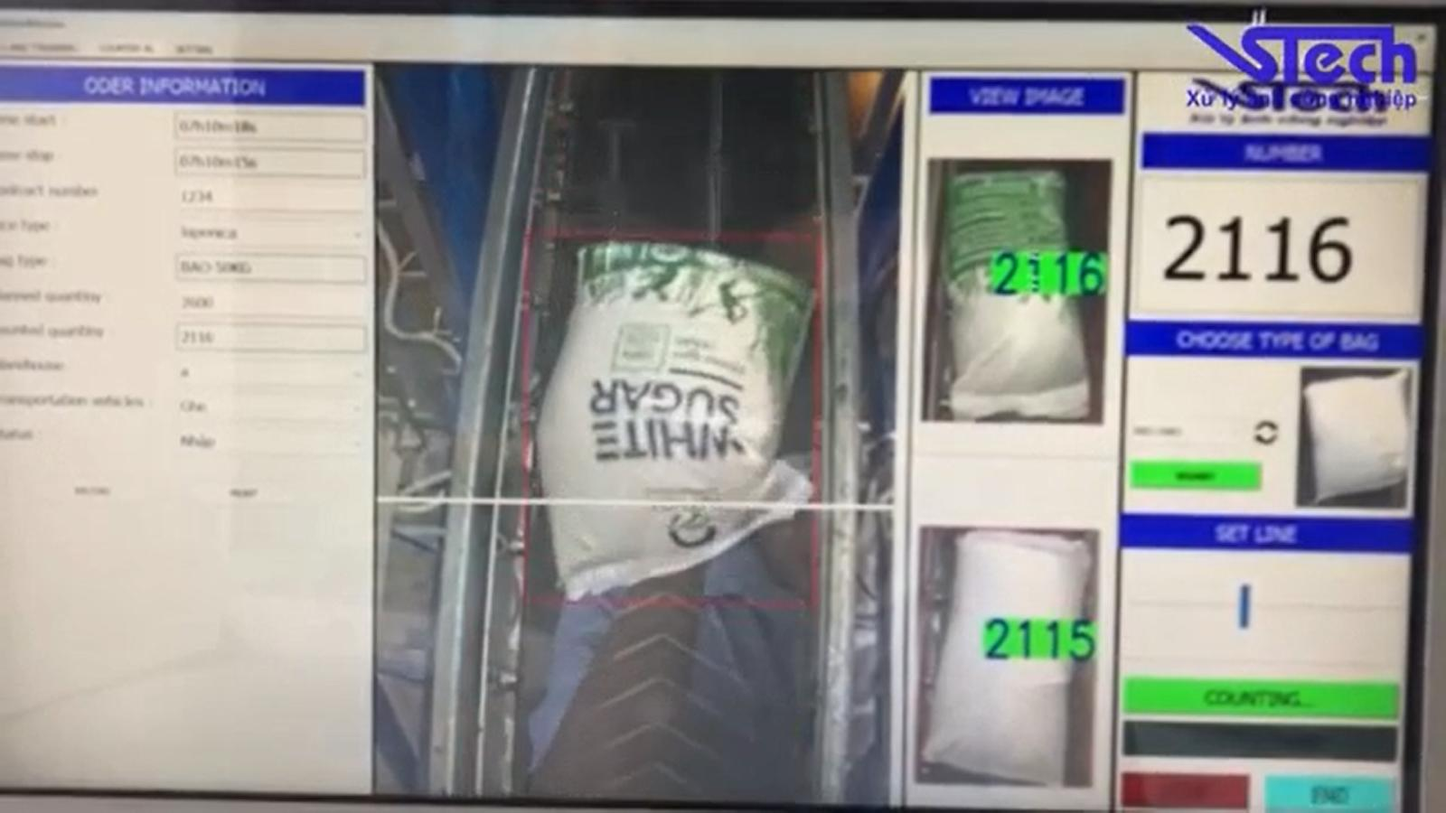rice-bag: (532, 241, 813, 598), (921, 529, 1089, 781), (944, 171, 1090, 420)
